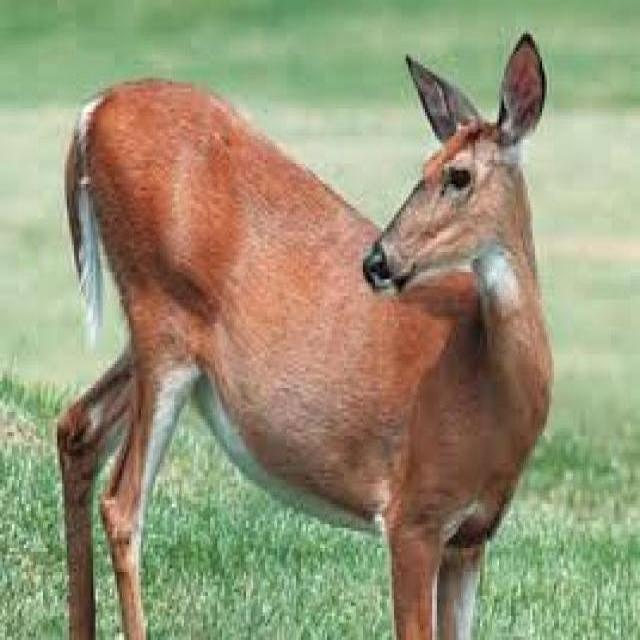deer: (62, 34, 554, 630)
